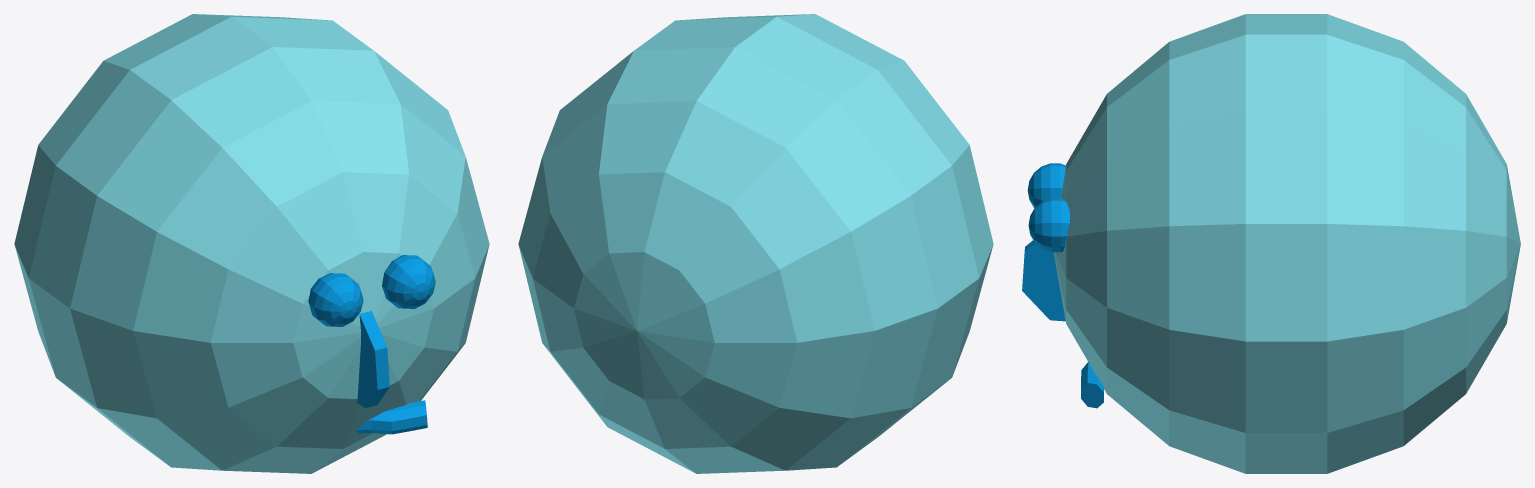
File: Head_Alex.fbx
3 renders of one model, left to right at view 1: azimuth 30°, elevation 25°; view 2: azimuth 150°, elevation 25°; view 3: azimuth 270°, elevation 25°, orthographic.
Visible parts, largest first — view 1: mesh_1935810512, group_1826942210, mesh_1443470649, mesh_390849420, group_10921974; view 2: mesh_1935810512; view 3: mesh_1935810512, group_1826942210, mesh_390849420, mesh_1443470649, group_10921974.
Boxes of the visible parts, x1=… form: mesh_1935810512: x1=14, y1=14, x2=489, y2=473; group_1826942210: x1=356, y1=310, x2=389, y2=407; mesh_1443470649: x1=308, y1=273, x2=363, y2=326; mesh_390849420: x1=382, y1=255, x2=435, y2=308; group_10921974: x1=355, y1=400, x2=427, y2=434; mesh_1935810512: x1=518, y1=14, x2=993, y2=473; mesh_1935810512: x1=1053, y1=14, x2=1520, y2=473; group_1826942210: x1=1022, y1=240, x2=1065, y2=321; mesh_390849420: x1=1028, y1=198, x2=1069, y2=252; mesh_1443470649: x1=1027, y1=163, x2=1065, y2=207; group_10921974: x1=1081, y1=362, x2=1103, y2=408.
Bounding box in the file's own units: 16.74 × 16.74 × 18.09.
